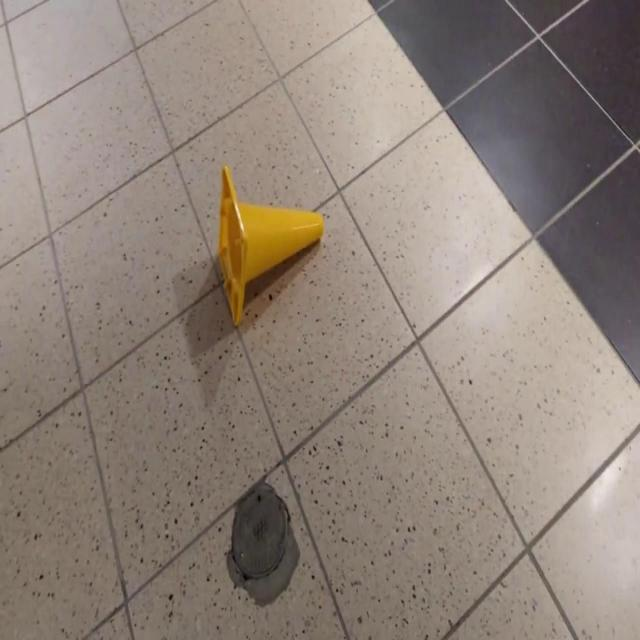frc_cone: (219, 158, 326, 332)
